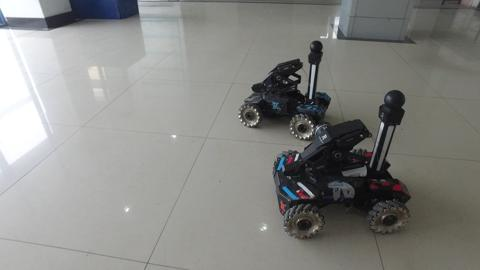chariot: (267, 84, 426, 240), (238, 34, 333, 141)
